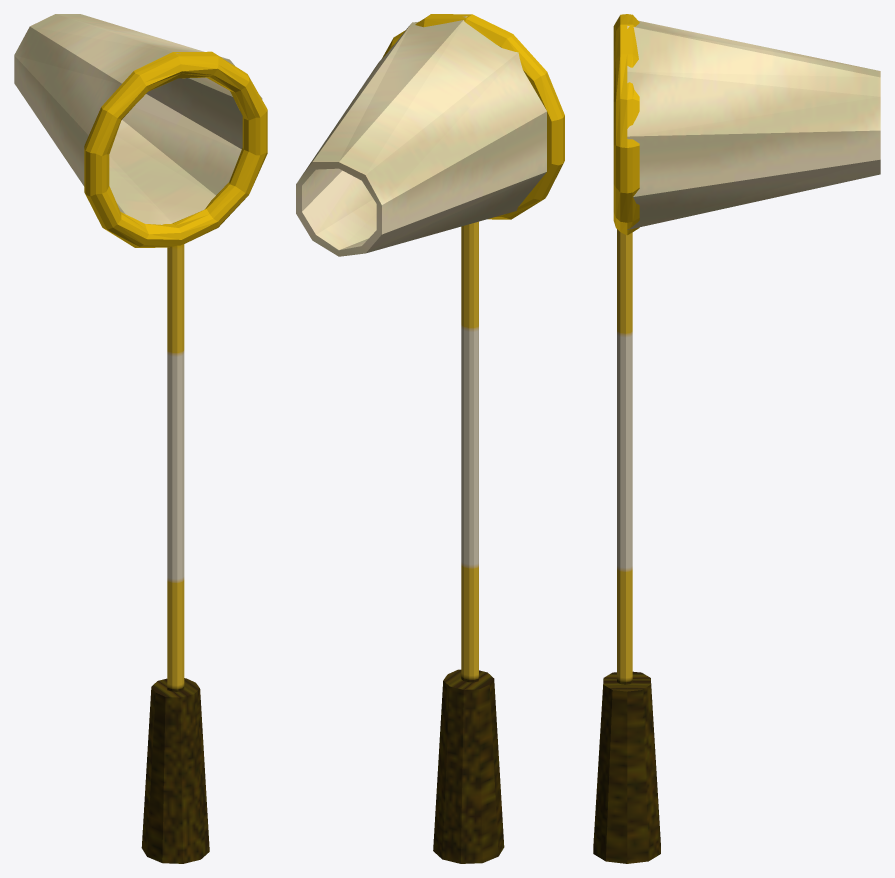
The model's file is Windthig.glb.
The picture shows the model from 3 angles, left to right: view 1: azimuth 30°, elevation 25°; view 2: azimuth 150°, elevation 25°; view 3: azimuth 270°, elevation 25°; orthographic projection. The views are drawn at different scales.
Visible parts, largest first — view 1: Windthig; view 2: Windthig; view 3: Windthig.
Part boxes in pixels (x1,y1,x2,y2): Windthig: (14, 14, 267, 863); Windthig: (296, 14, 564, 863); Windthig: (593, 14, 880, 863).
Size of the model in its own units: 60.91 by 257 by 81.08.
Materials: 1 (1 with a texture image).
